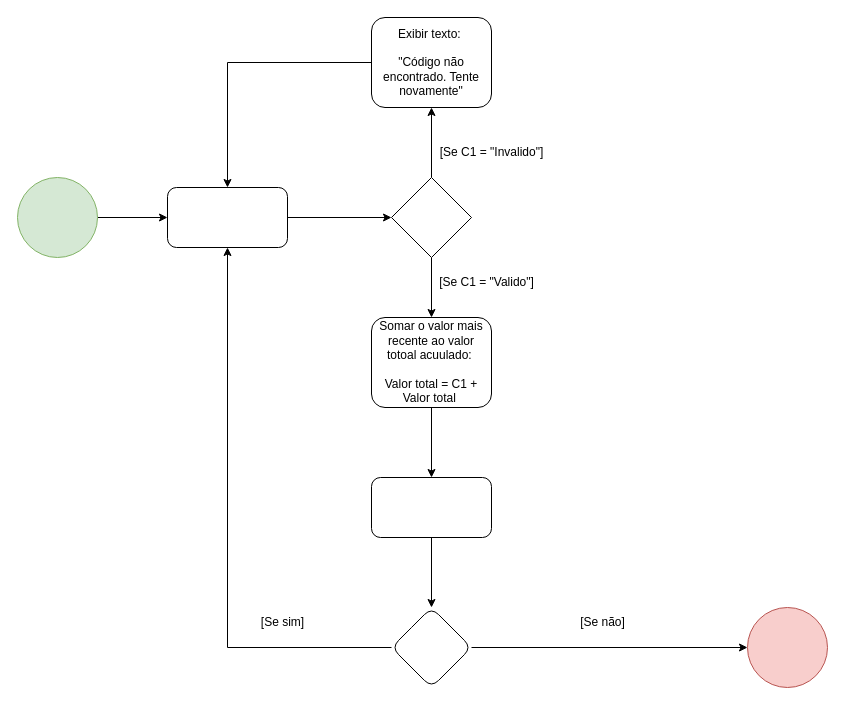
Image size: 845x705. Some labels were removed from this diagram. Each missing label, with the centre of its shape:
Exibir texto: "Deseja adicionar outro valor?": (431,507)
inserir o código do produto C1: (227,217)
